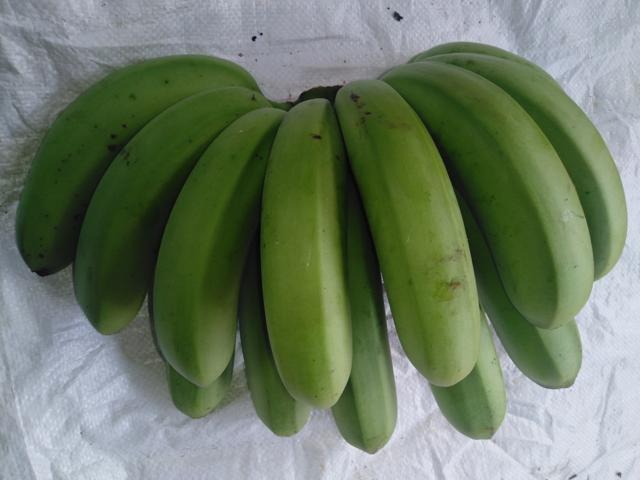freshunripe: (418, 45, 586, 336), (140, 118, 262, 405)
unripe: (343, 59, 483, 415), (58, 78, 223, 334), (246, 87, 362, 431), (330, 286, 402, 452), (445, 314, 513, 446)
